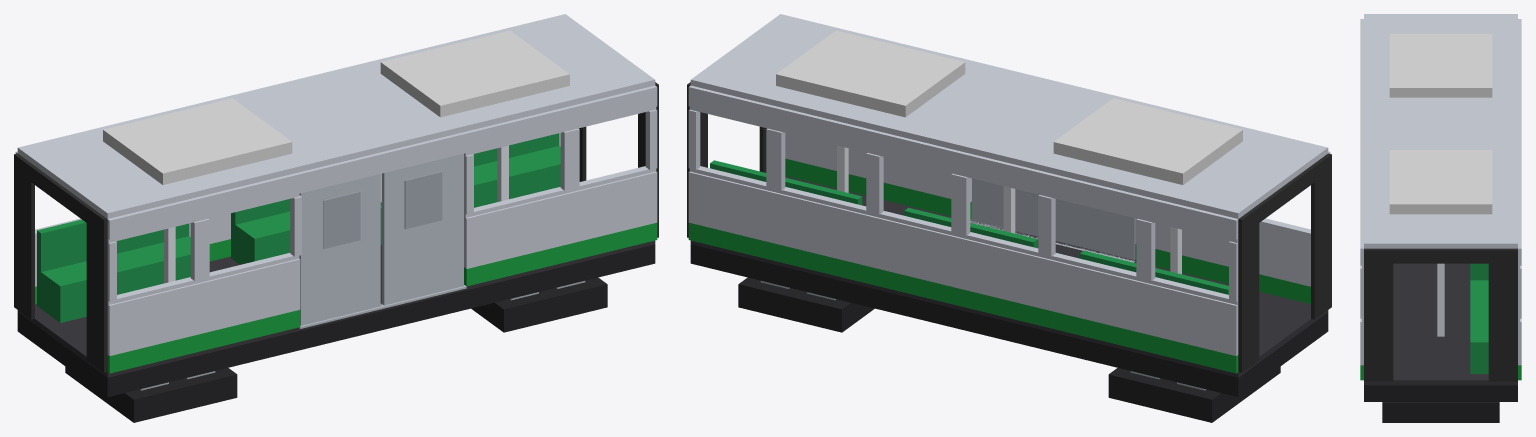
Rendered from metro_wagon_closed_l2.obj.
3 renders of one model, left to right at view 1: azimuth 30°, elevation 25°; view 2: azimuth 150°, elevation 25°; view 3: azimuth 270°, elevation 25°, orthographic. The views are drawn at different scales.
Bounding box in the file's own units: 3 × 1.26 × 0.88.
